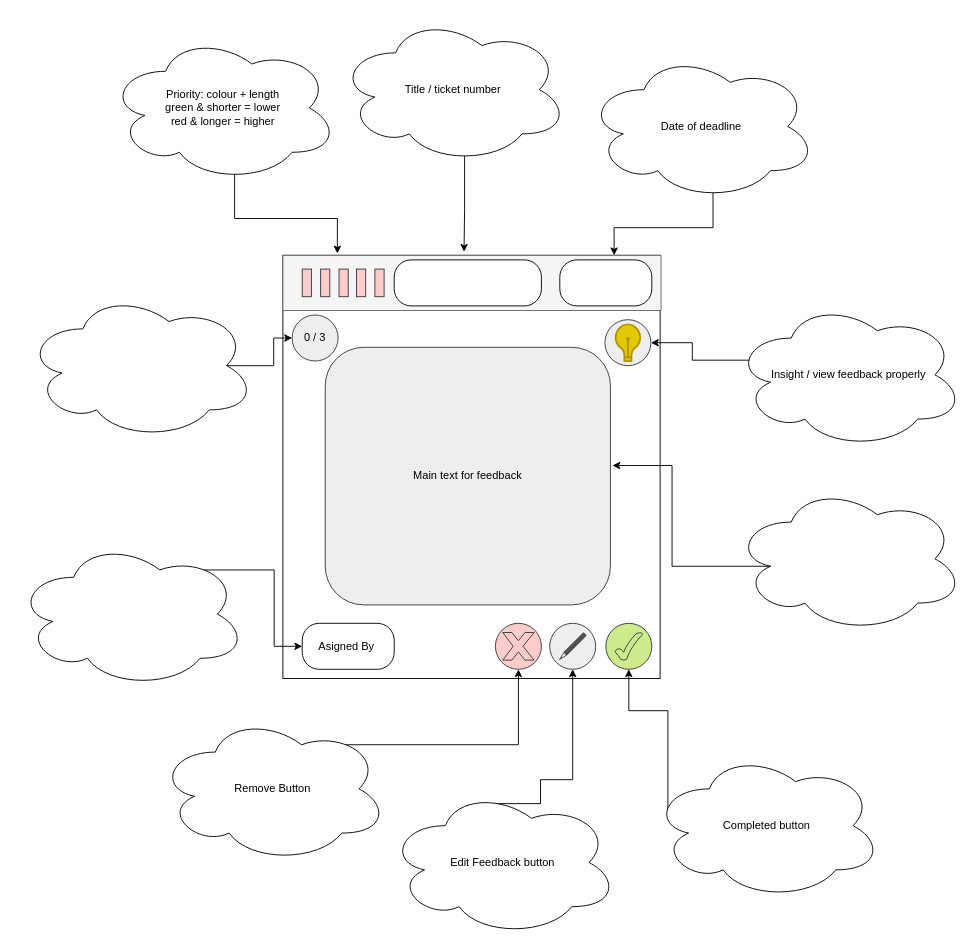
This 980x952 diagram has some shape labels left out. The shapes that lost their labels are listed below. From the top down, each one's centre as x and y in pixels, then its label:
At (467,282): "Name / ticket num".
At (605,282): "Deadline".
At (139,365): "Sub tasks completed".
At (848,558): "Main body of feedback".
At (130,614): "Author".
